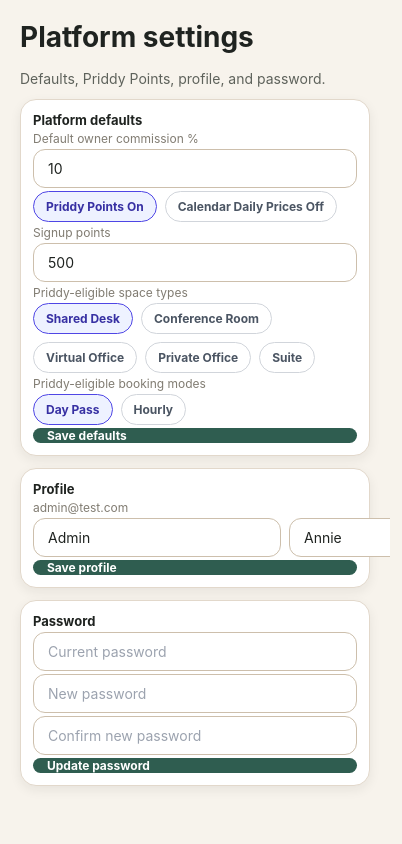
AdminSettingsScreen › blocks mismatched passwords and updates with web's payload
This screenshot has width=402, height=844.
Check: the password field labelled "Current password" is shown, box [33,632,357,671]
Type "Password123!" into the password field labelled "New password" at (195, 694), box [33,674,357,713]
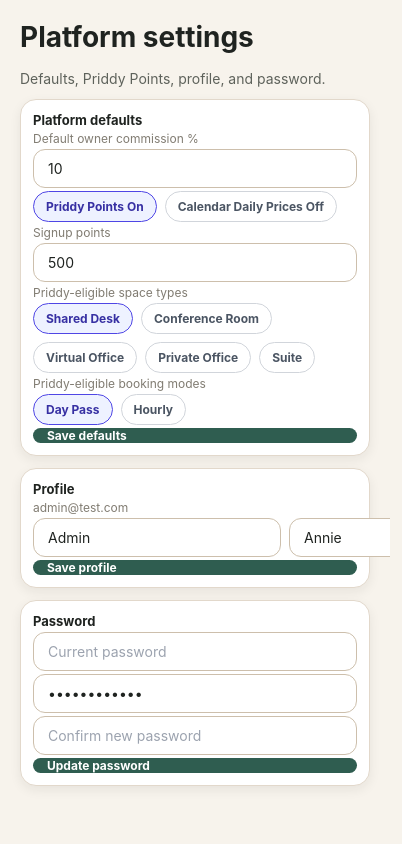
Type "different" into the password field named "Confirm password" at (195, 736), box [33,716,357,755]
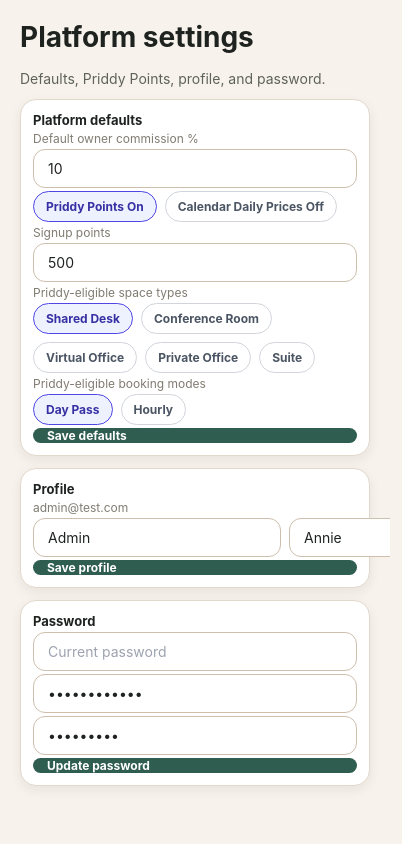
Click the button labelled "Update password" at (98, 766), box [33,758,357,773]
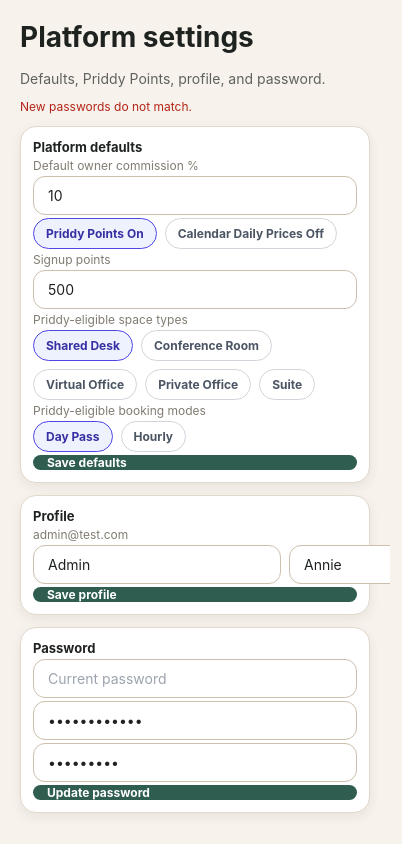
Check: the text "New passwords do not match." is shown, box [20,99,192,114]
Type "OldPassword1!" into the password field labelled "Current password" at (195, 678), box [33,659,357,698]
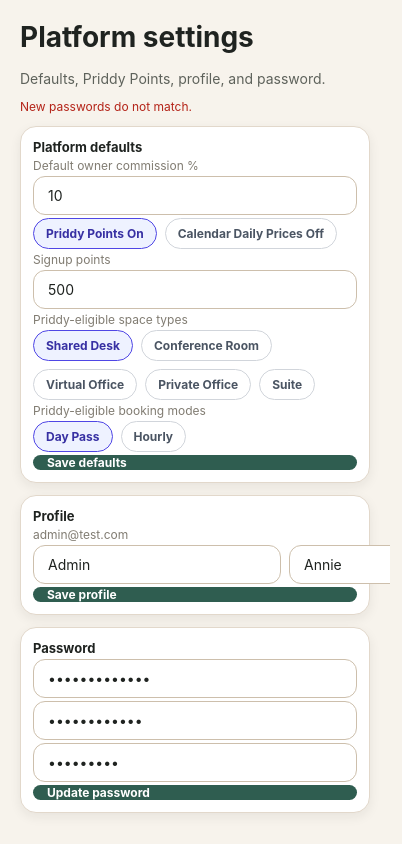
Type "Password123!" into the password field named "Confirm password" at (195, 762), box [33,743,357,782]
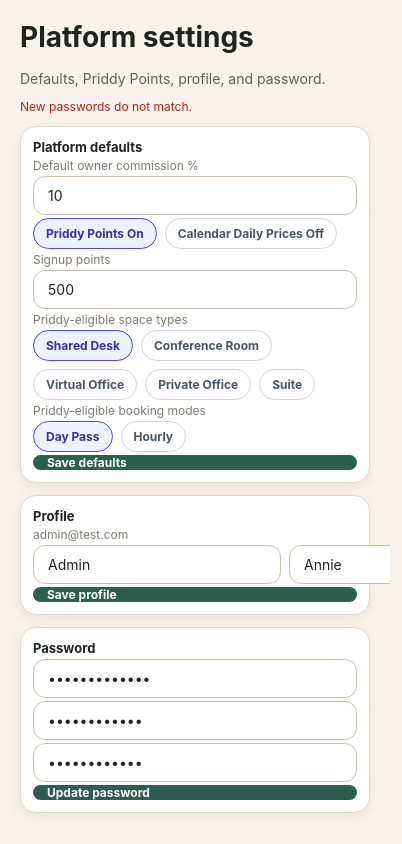
Click the button labelled "Update password" at (98, 792), box [33,785,357,800]
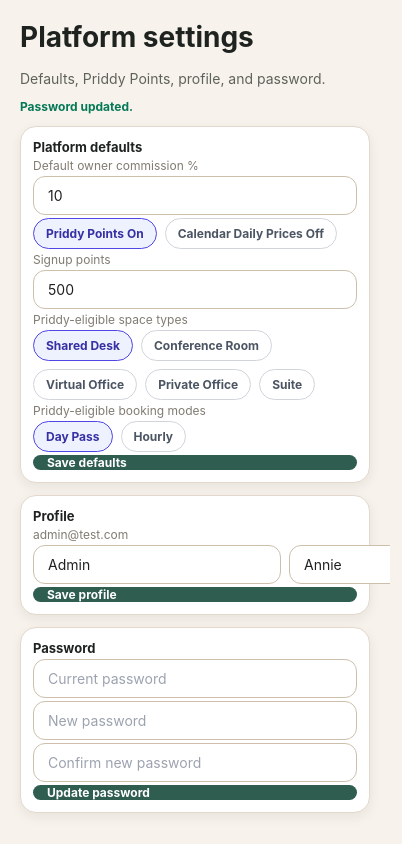
Check: the text "Password updated." is shown, box [20,99,133,114]
